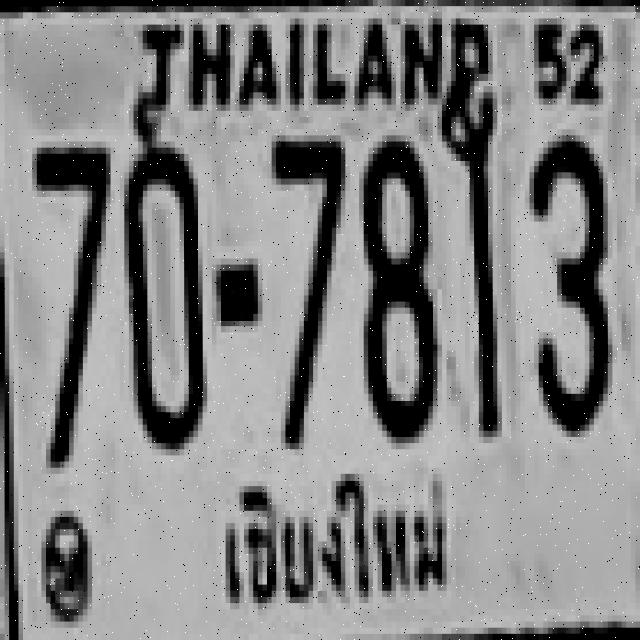0: (120, 144, 202, 446)
3: (525, 129, 608, 431)
7: (32, 142, 106, 394), (267, 136, 341, 376), (32, 142, 106, 364), (267, 136, 341, 327)
8: (359, 135, 433, 437)
ChiangMai: (197, 460, 480, 628)
